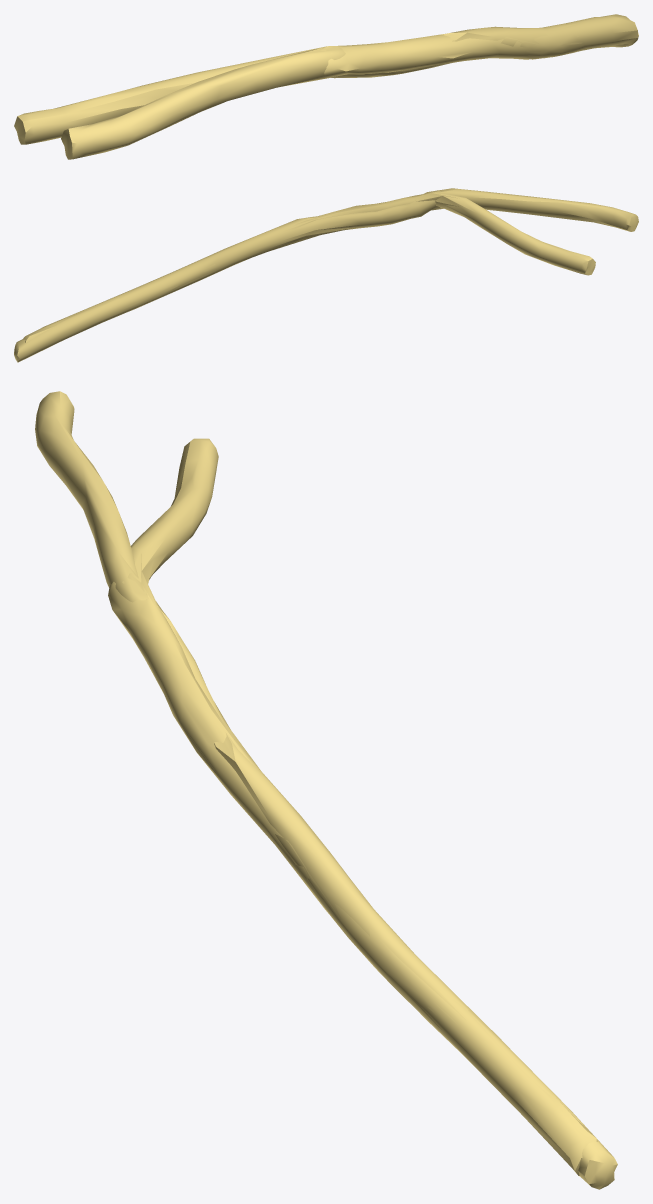
File: fma53451_mm2610m.glb
3 renders of one model, top to bottom at view 1: azimuth 30°, elevation 25°; view 2: azimuth 150°, elevation 25°; view 3: azimuth 270°, elevation 25°, orthographic. The views are drawn at different scales.
Visible parts, largest first — view 1: FMA53451_MM2610M; view 2: FMA53451_MM2610M; view 3: FMA53451_MM2610M.
Boxes of the visible parts, x1,y1,x2,y2 form: FMA53451_MM2610M: (14,14,638,159); FMA53451_MM2610M: (14,188,638,362); FMA53451_MM2610M: (35,391,617,1189).
Size of the model in its own units: 0.0227 by 0.00739 by 0.0118.
